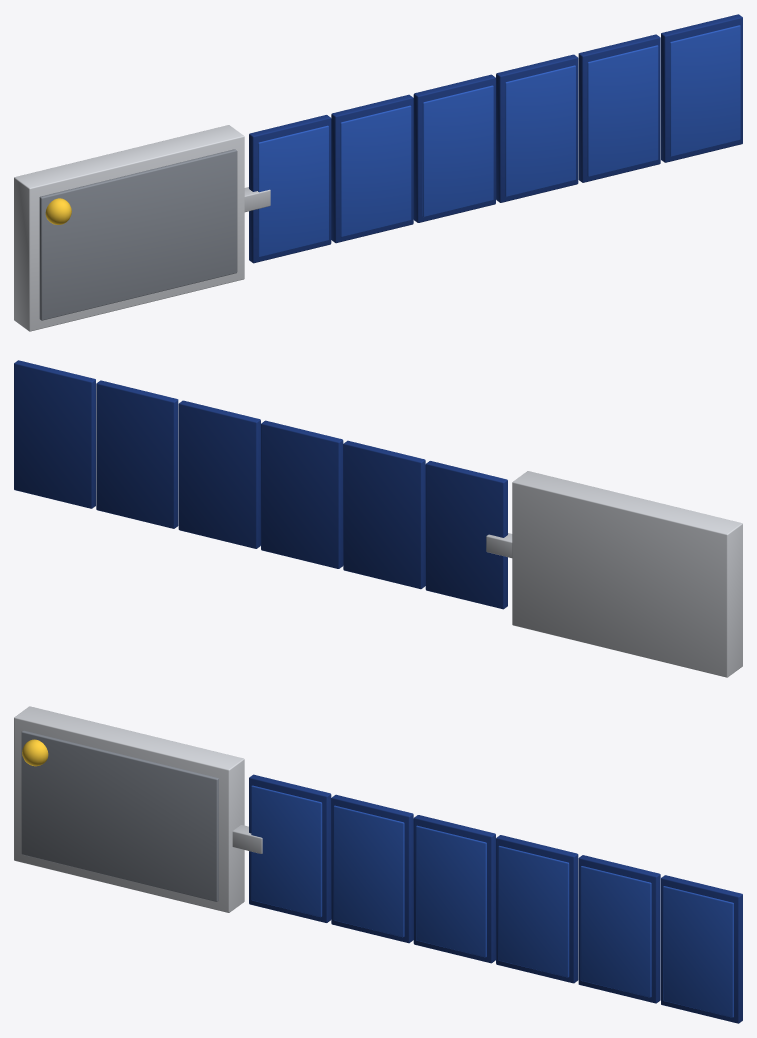
File: starlink_sat.glb
3 views of the same model, one above another, from view 1: azimuth 30°, elevation 25°; view 2: azimuth 150°, elevation 25°; view 3: azimuth 330°, elevation 25° (orthographic).
Visible parts, largest first — view 1: starlink_sat; view 2: starlink_sat; view 3: starlink_sat.
Boxes of the visible parts, x1,y1,x2,y2 form: starlink_sat: [14, 14, 742, 331]; starlink_sat: [14, 360, 742, 677]; starlink_sat: [14, 706, 742, 1023].
Size of the model in its own units: 3.67 by 0.7 by 0.23.
